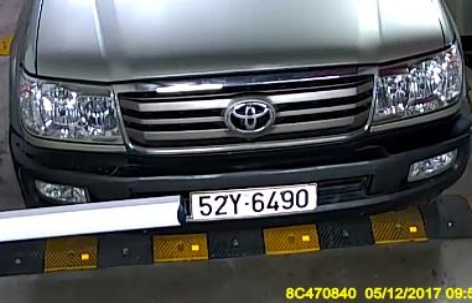plate: (182, 178, 333, 221)
